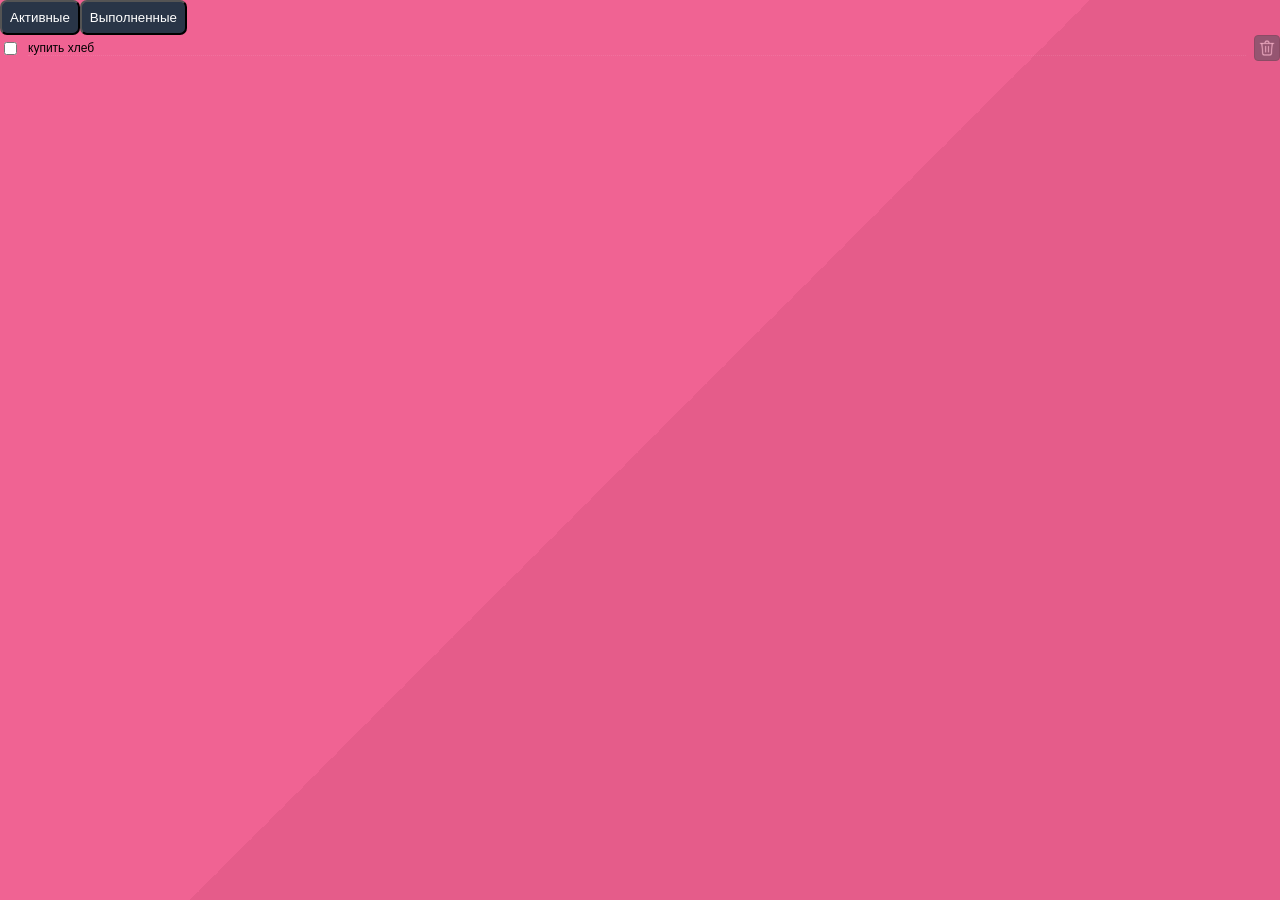
Test: Оповещение при выполнении задачи › появляется и содержит заголовок задачи
Click the checkbox. click: (10, 48)
box: x1=4 y1=42 x2=17 y2=54
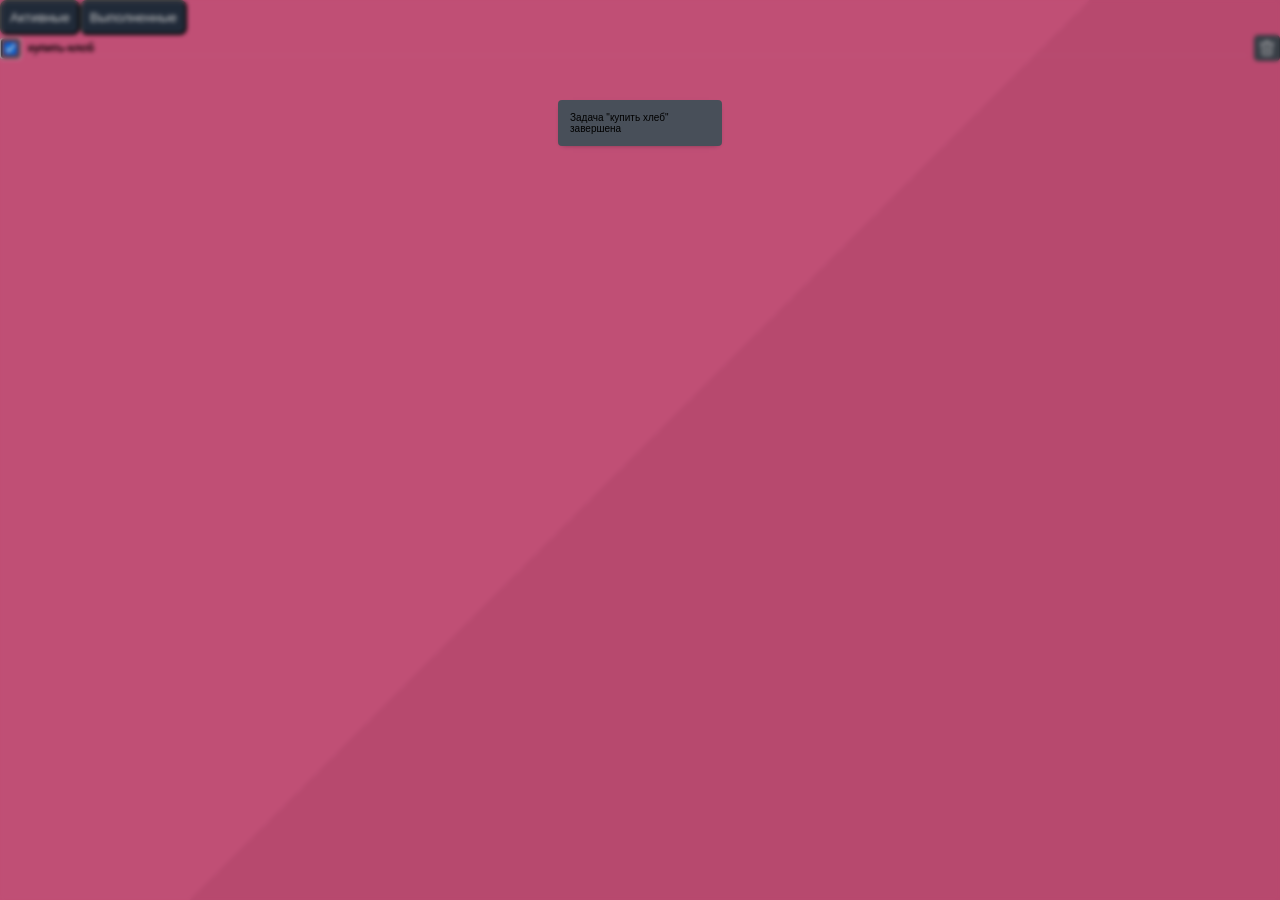
Now the text "Задача \"купить хлеб\" завершена" is shown, box x1=558 y1=100 x2=722 y2=146
Now the text with test id "notifier" shows "купить хлеб", box x1=570 y1=112 x2=668 y2=134
